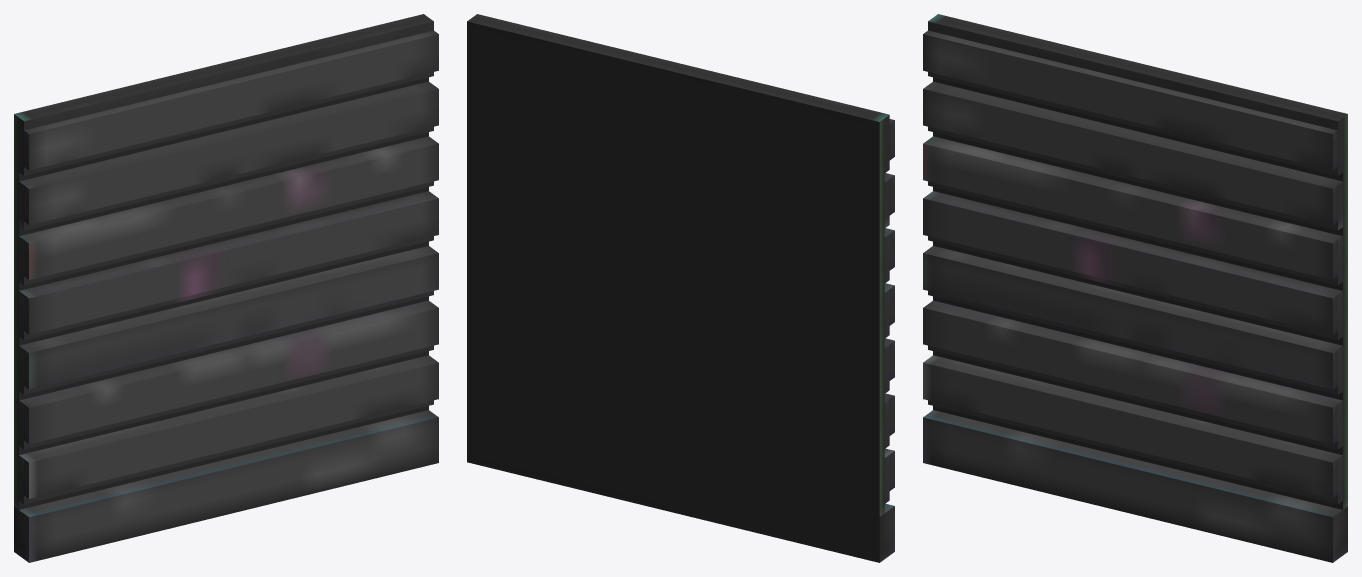
The model's file is Entrance_Door_A_00.fbx.
3 renders of one model, left to right at view 1: azimuth 30°, elevation 25°; view 2: azimuth 150°, elevation 25°; view 3: azimuth 330°, elevation 25°, orthographic.
Parts seen in each view (by area): view 1: Entrance_Door_A_00; view 2: Entrance_Door_A_00; view 3: Entrance_Door_A_00.
Part boxes in pixels (box(x1,y1,x2,y2)): Entrance_Door_A_00: box(14, 14, 438, 562); Entrance_Door_A_00: box(467, 14, 894, 562); Entrance_Door_A_00: box(923, 14, 1347, 562).
Bounding box in the file's own units: 235 × 240 × 15.
